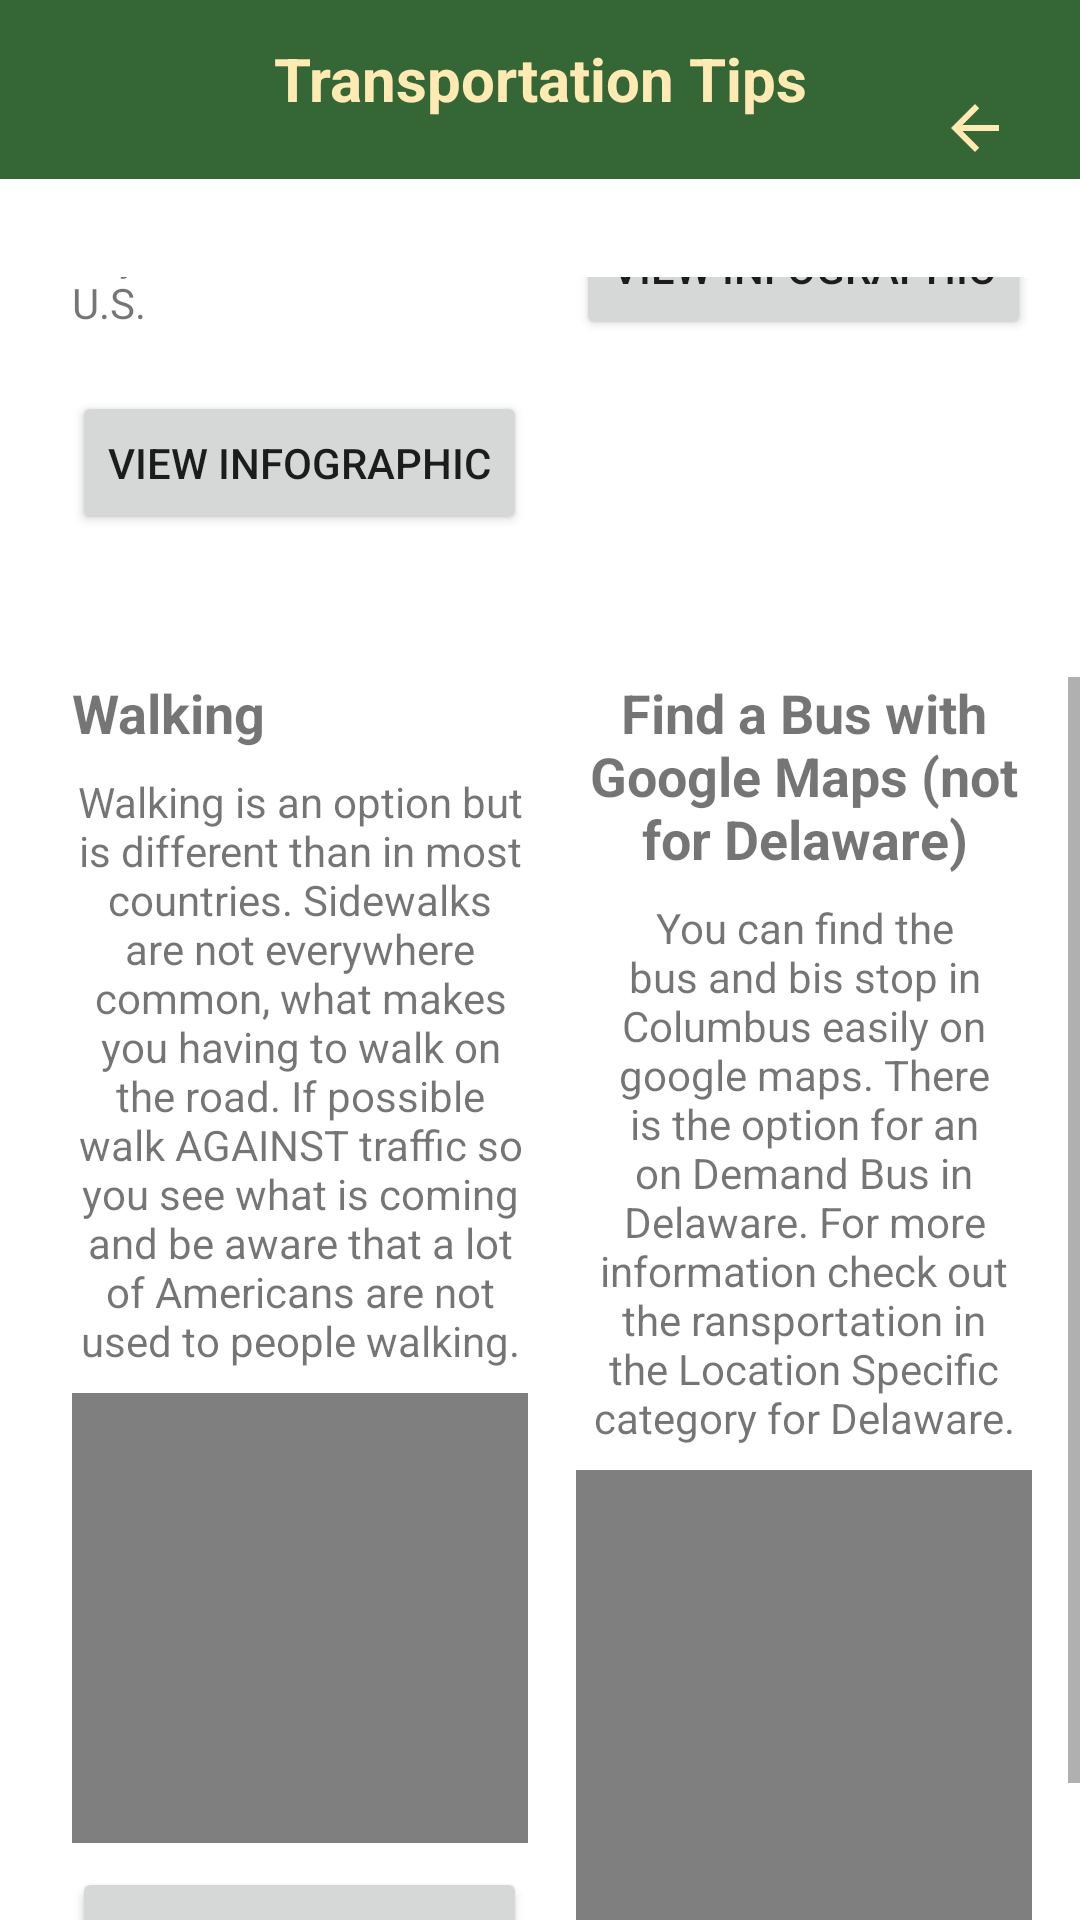

Icons on this 1080×1920 Android screen, each with the point to tap as (x,y):
back: (975,128)
